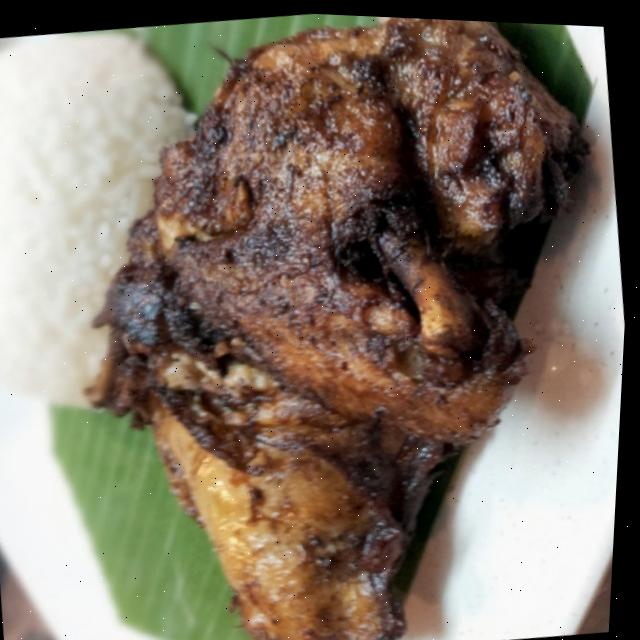鸡肉料理 含炸鸡: (74, 3, 628, 640)
